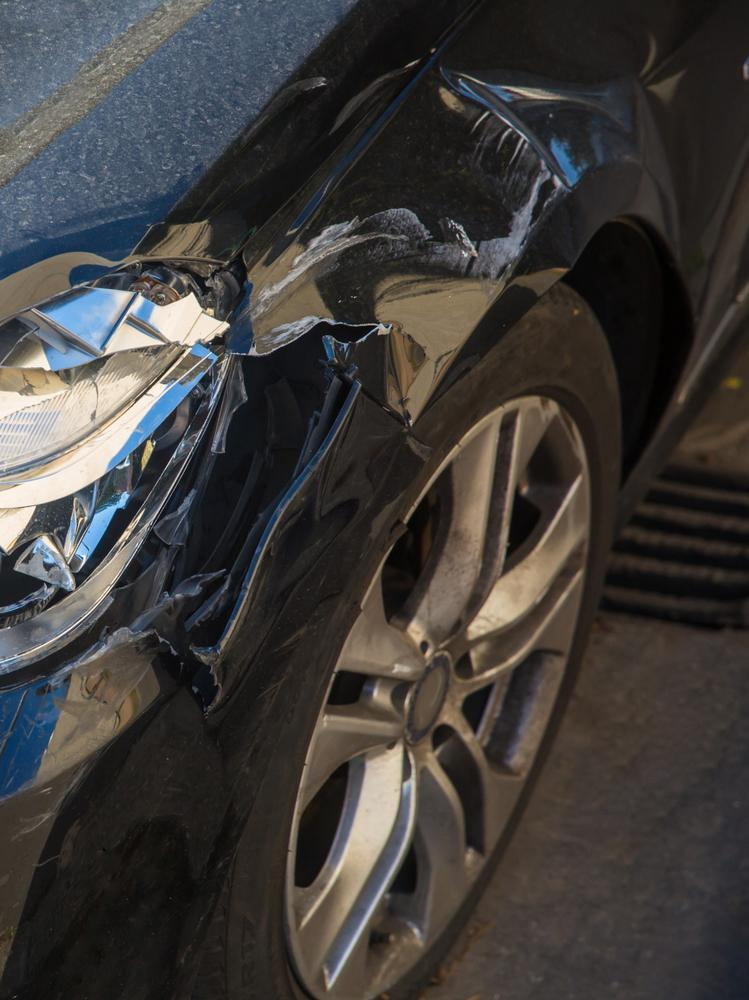crack: (160, 639, 222, 718), (309, 320, 384, 343)
dent: (238, 69, 542, 293)
lamp broken: (0, 259, 280, 687)
scratch: (16, 634, 154, 842)
